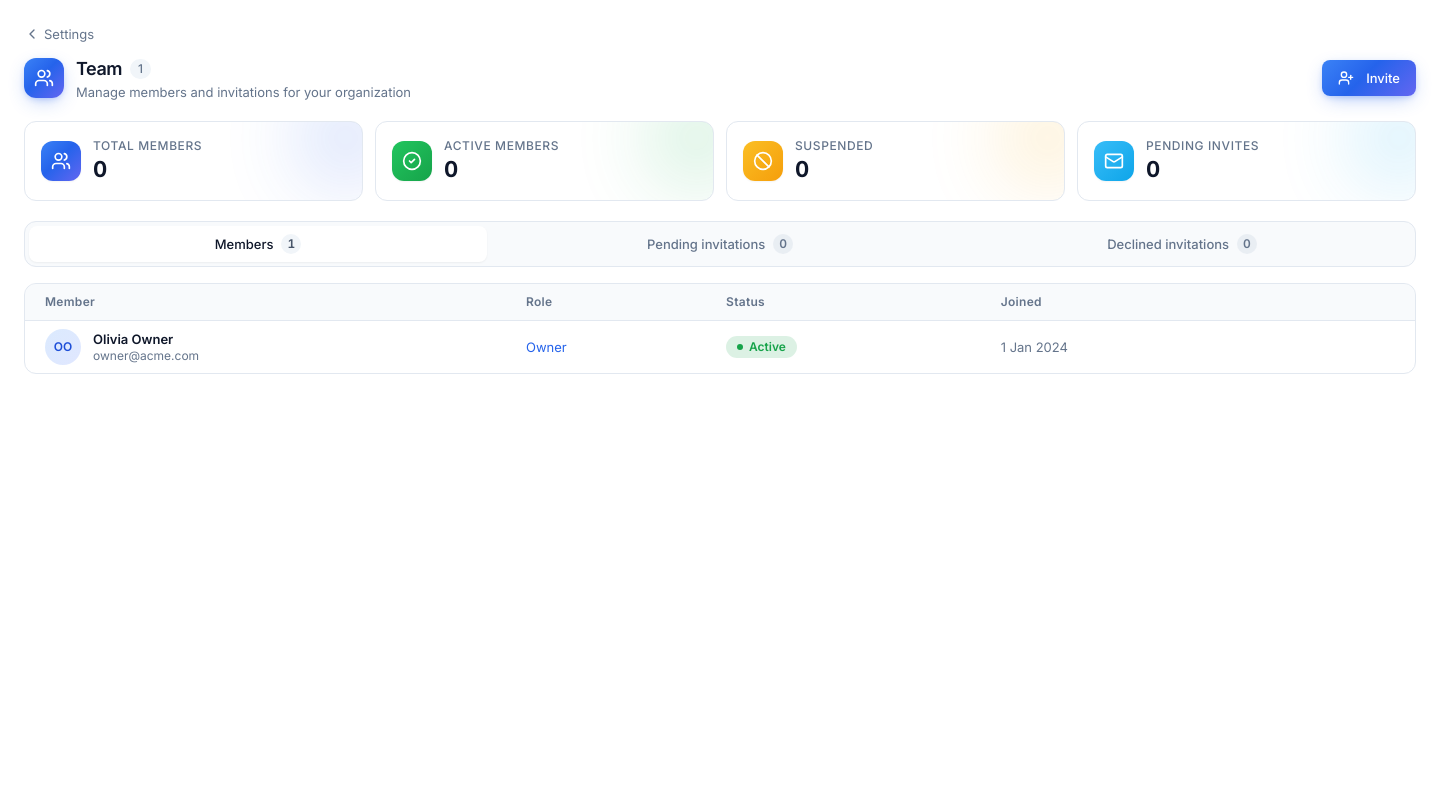
Test case: TeamManagementView › toggles the invite form when the Invite button is clicked
expect the heading "invite a team member" is not shown: met
Click the button "Invite": (1369, 78) [1322, 60, 1416, 96]
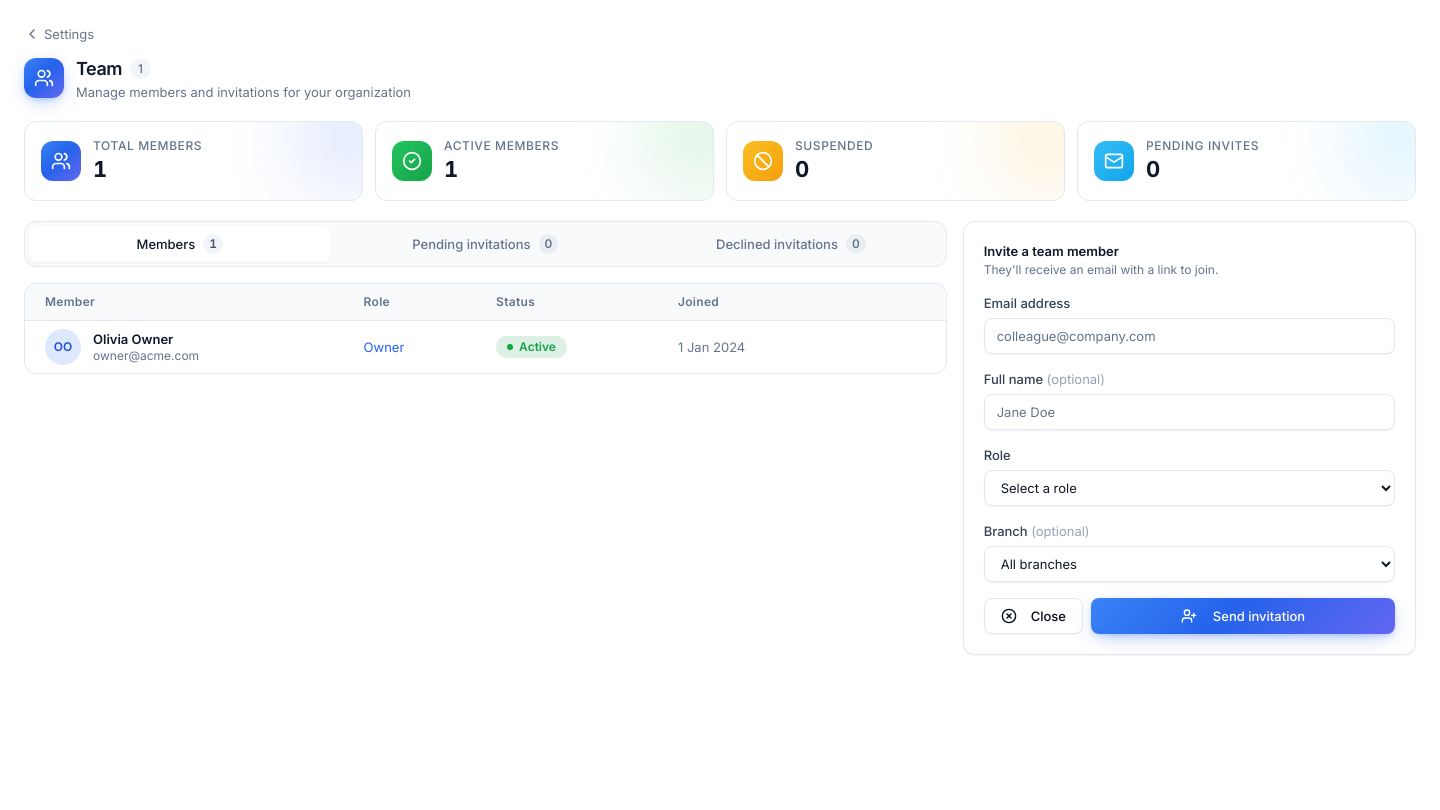
expect the heading "Invite a team member" is shown: met, box [984, 243, 1119, 259]
Click the button "Close": (1033, 616) [984, 598, 1083, 634]
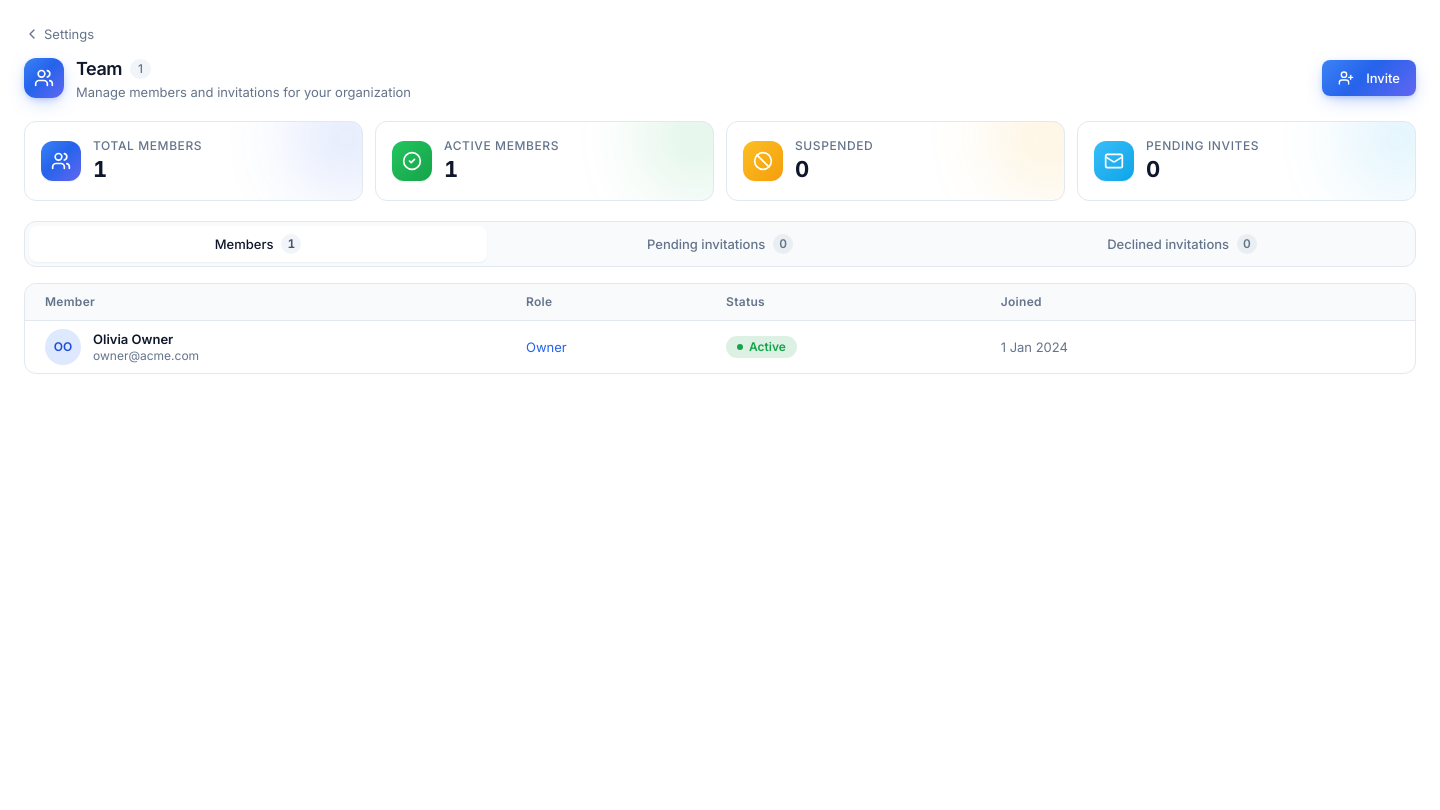
expect the heading "Invite a team member" is gone: met
